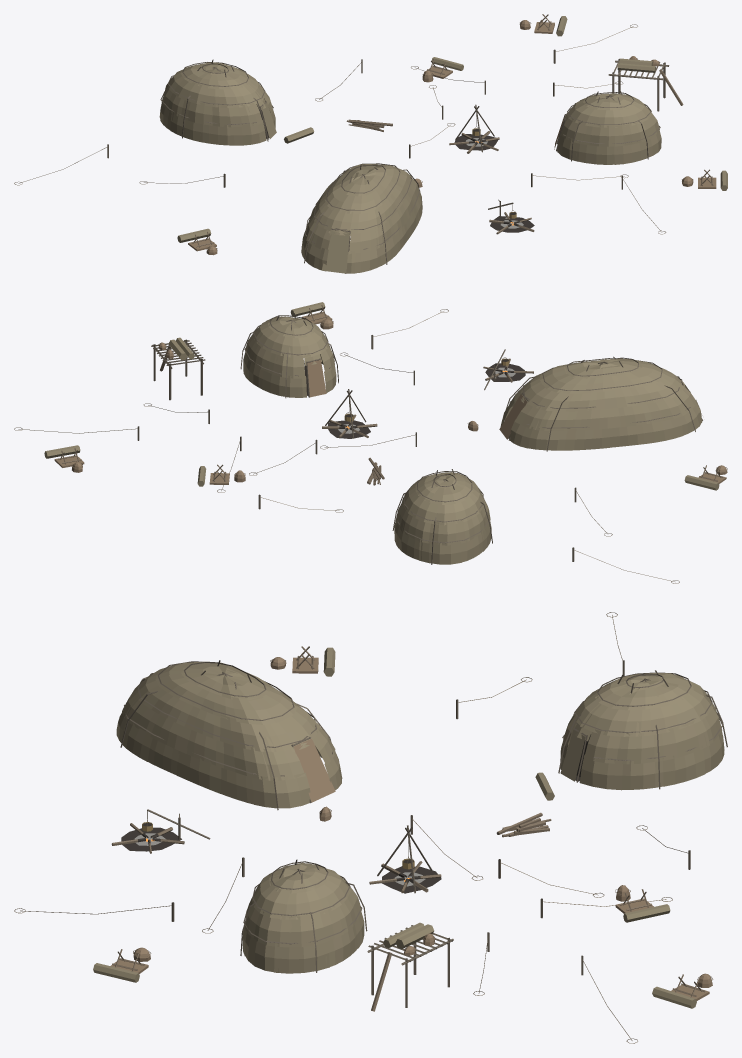
File: miami_escort_camp_1812__camp_1812.glb
3 views of the same model, one above another, from view 1: azimuth 30°, elevation 25°; view 2: azimuth 150°, elevation 25°; view 3: azimuth 270°, elevation 25° (orthographic). The views are drawn at different scales.
Parts seen in each view (by area): view 1: miami_escort_camp_1812__camp_1812; view 2: miami_escort_camp_1812__camp_1812; view 3: miami_escort_camp_1812__camp_1812.
Boxes of the visible parts, box(x1,y1,x2,y2) form: miami_escort_camp_1812__camp_1812: box(14, 14, 727, 273); miami_escort_camp_1812__camp_1812: box(14, 302, 727, 583); miami_escort_camp_1812__camp_1812: box(14, 612, 727, 1043).
Size of the model in its own units: 31.72 by 3.05 by 22.21.
